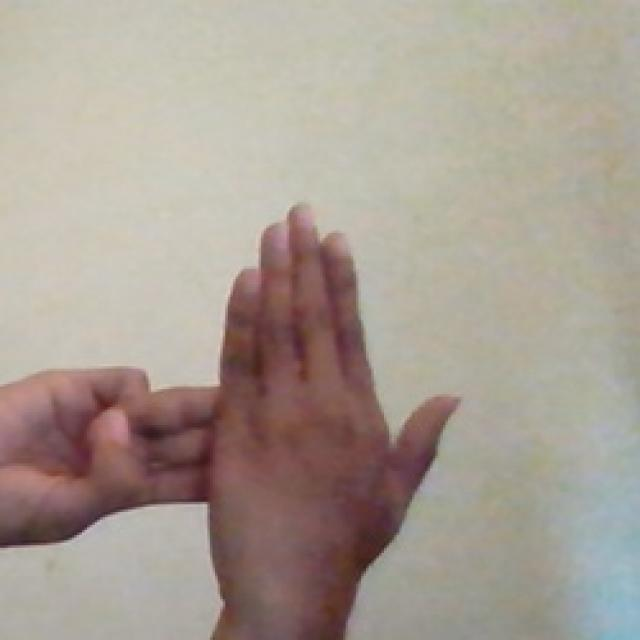Alphabet-M: (0, 190, 476, 638)
